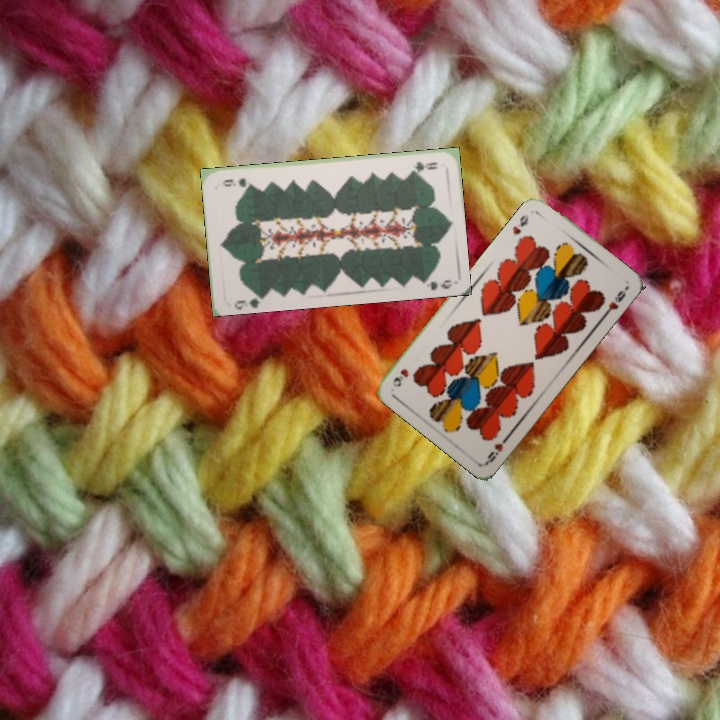G9: (230, 289, 266, 310), (407, 158, 441, 174)
H9: (482, 431, 512, 466), (508, 211, 531, 238)
